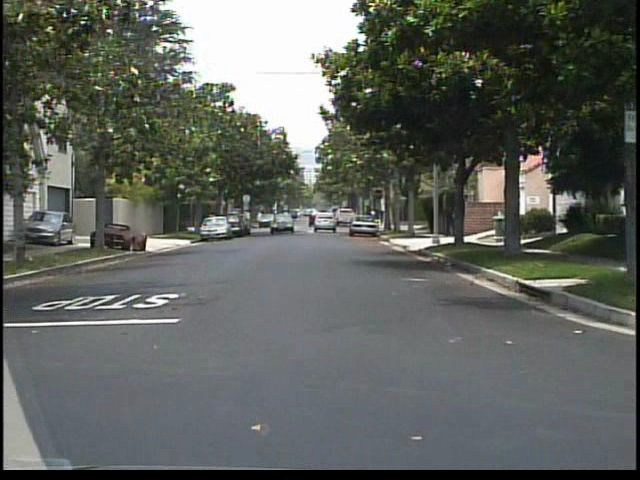person: (440, 198, 457, 238), (207, 207, 220, 233)
